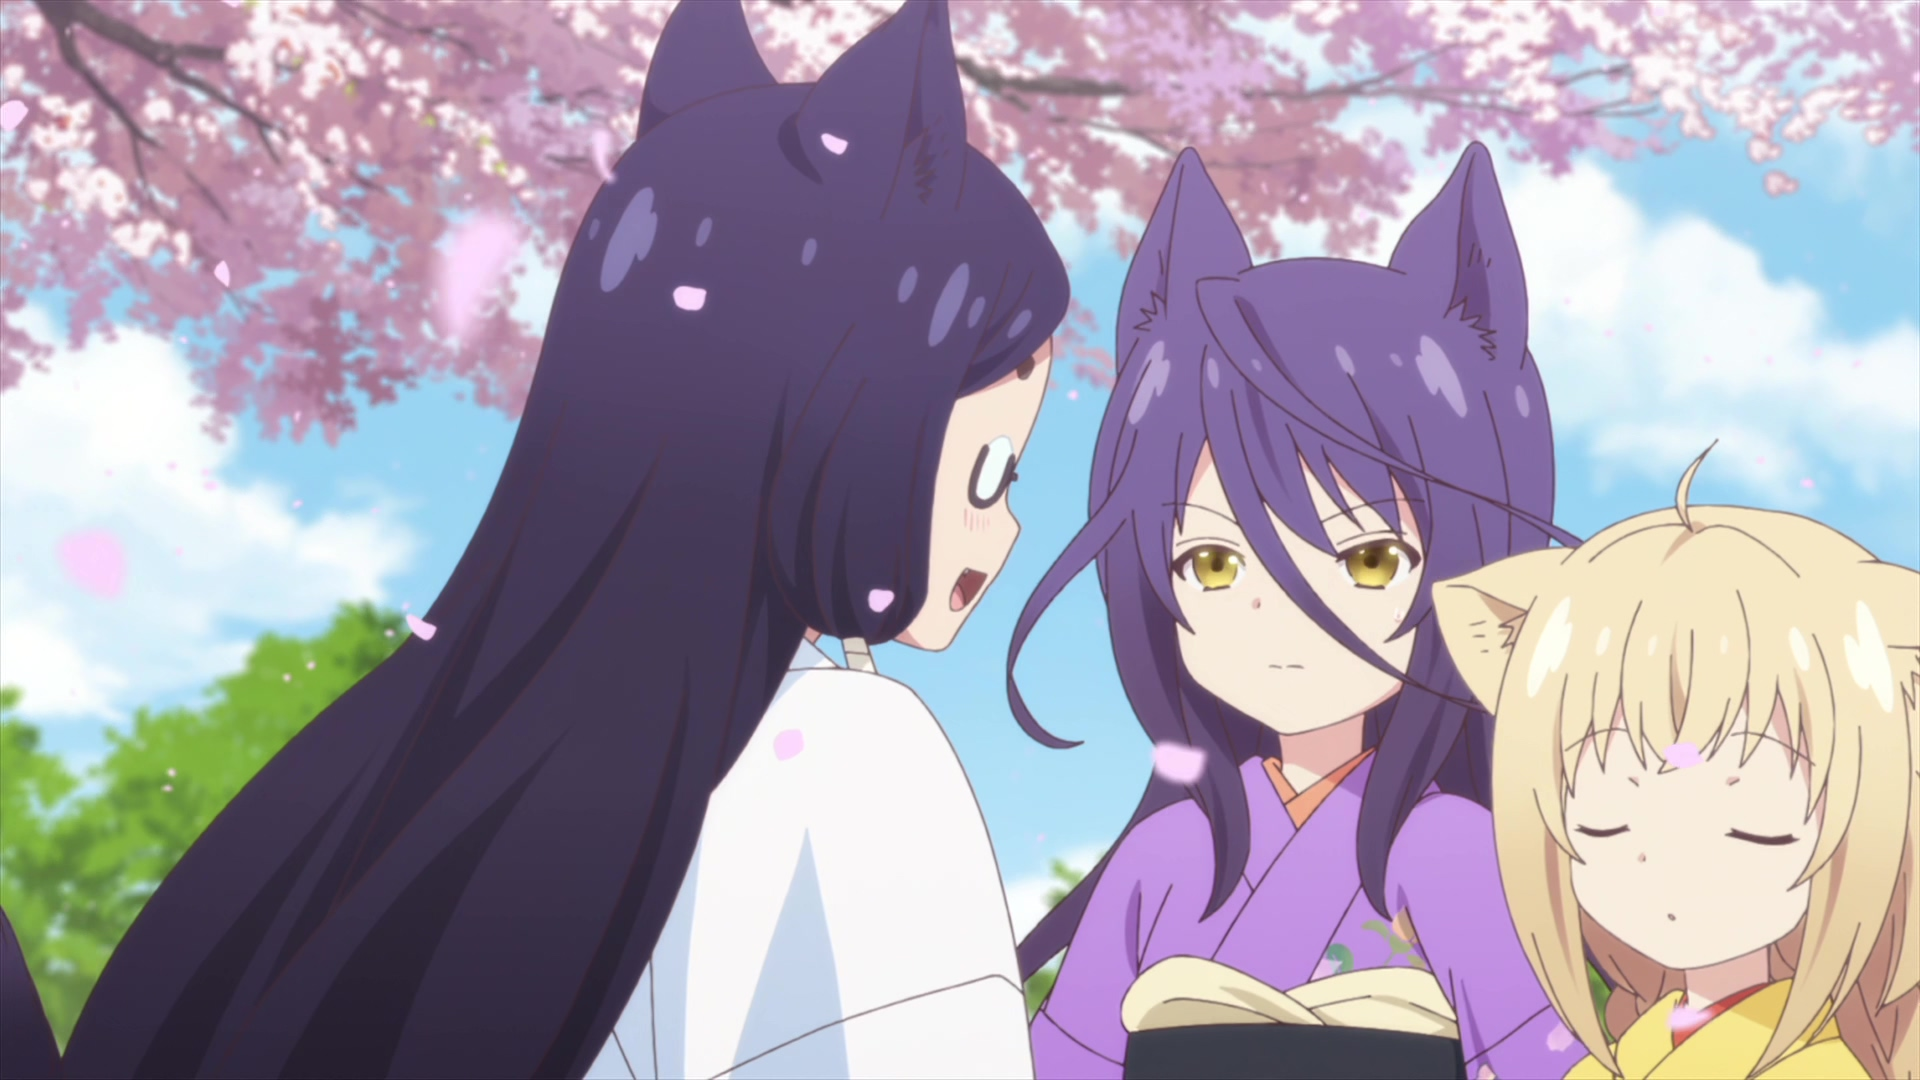柚: (1433, 438, 1920, 1080)
皋: (1006, 141, 1586, 1080)
菖: (58, 1, 1069, 1080)
